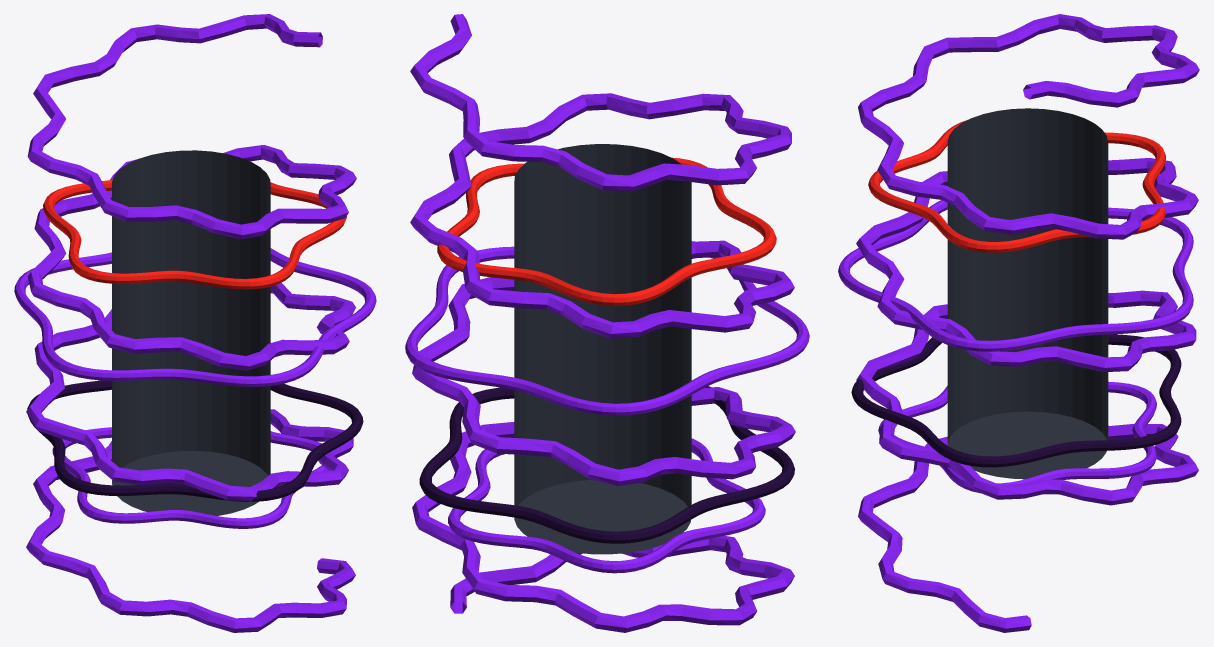
The model's file is VFX_FinalBoss_Apocalypse.obj.
The picture shows the model from 3 angles, left to right: view 1: azimuth 30°, elevation 25°; view 2: azimuth 150°, elevation 25°; view 3: azimuth 270°, elevation 25°; orthographic projection. The views are drawn at different scales.
Parts seen in each view (by area): view 1: CenterCylinder, VoidHelix, BossAuraRing; view 2: CenterCylinder, VoidHelix, BossAuraRing; view 3: CenterCylinder, VoidHelix, BossAuraRing.
Part boxes in pixels (bbox=[...]): CenterCylinder: bbox=[112, 150, 270, 515]; VoidHelix: bbox=[26, 14, 356, 632]; BossAuraRing: bbox=[14, 180, 376, 528]; CenterCylinder: bbox=[514, 144, 691, 554]; VoidHelix: bbox=[410, 14, 795, 632]; BossAuraRing: bbox=[405, 157, 809, 573]; CenterCylinder: bbox=[947, 108, 1108, 479]; VoidHelix: bbox=[856, 14, 1199, 632]; BossAuraRing: bbox=[838, 120, 1193, 493].
Size of the model in its own units: 2.19 by 3.58 by 2.16.
